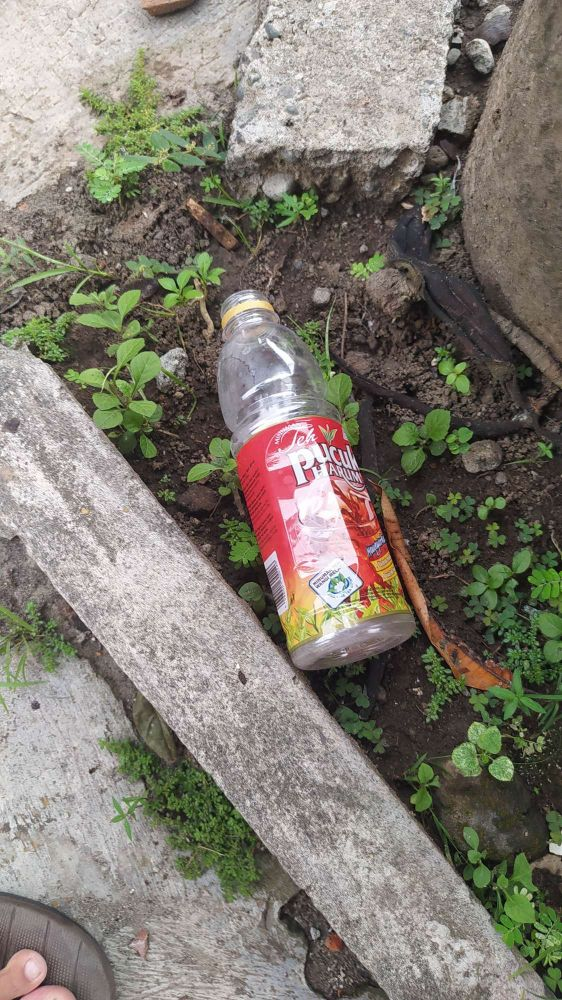botol: (142, 235, 453, 707)
